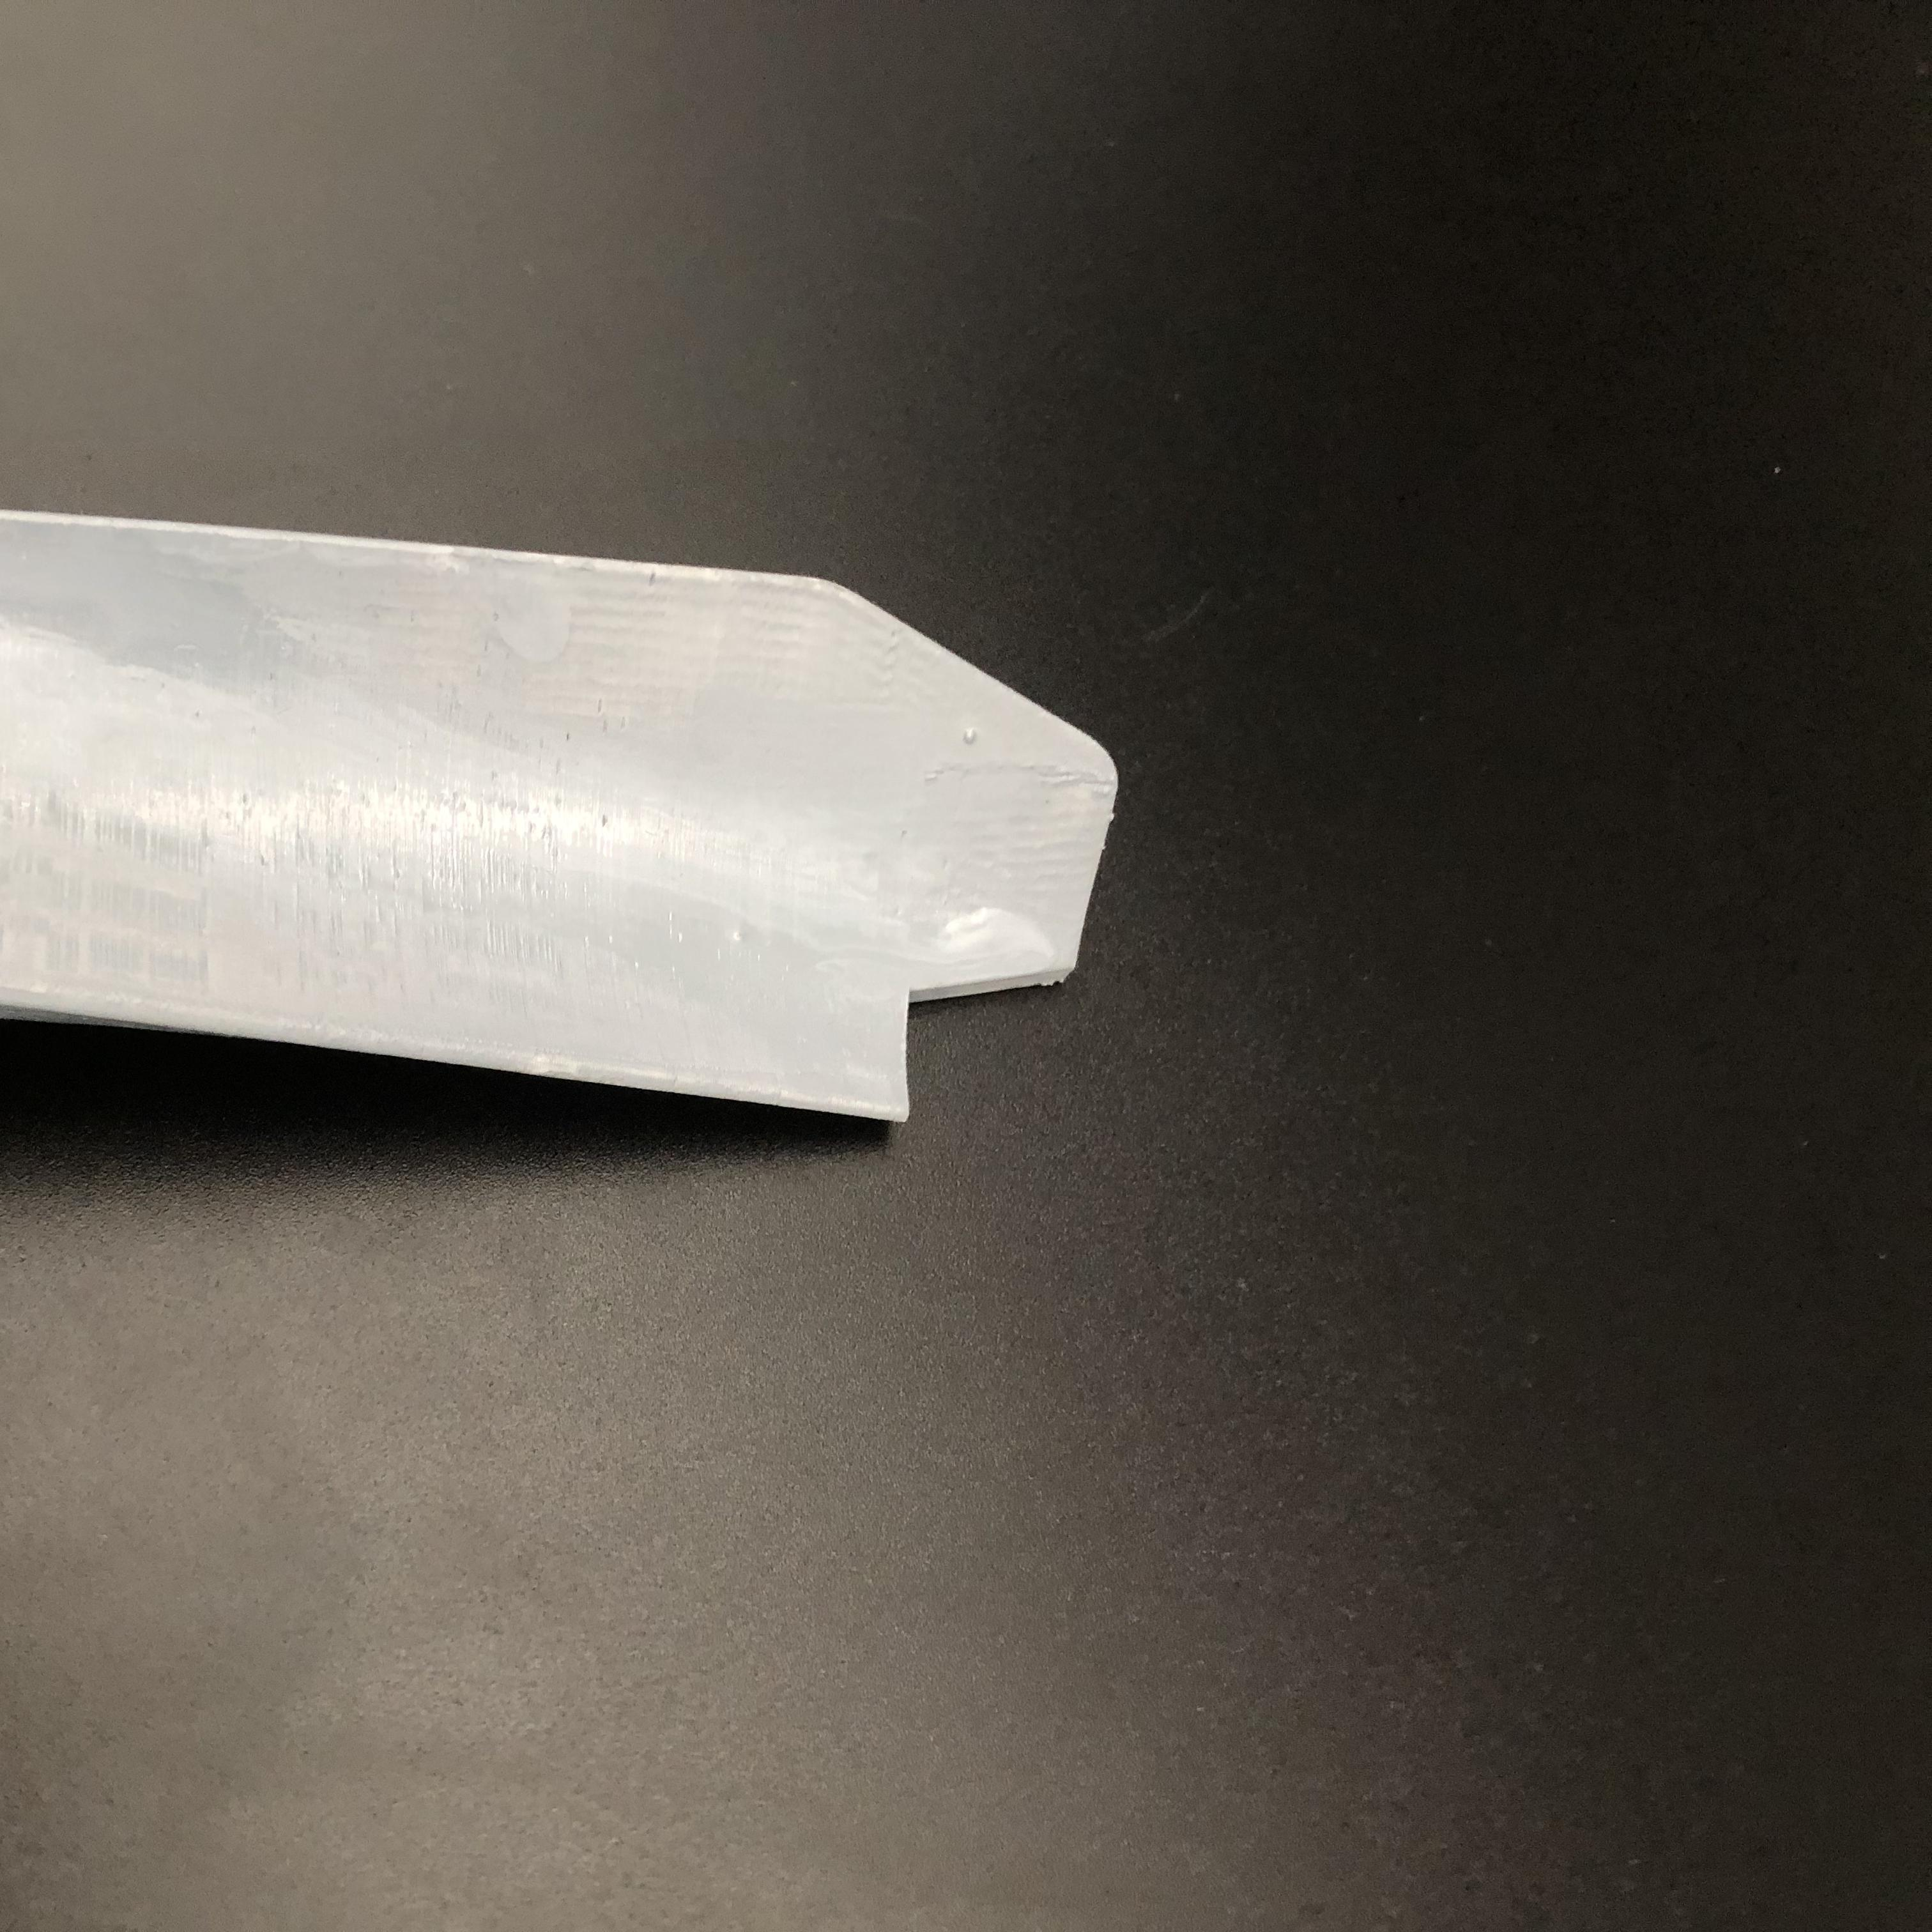fracture: (888, 948, 1069, 1125)
